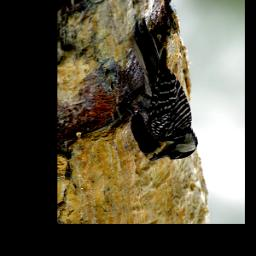Woodpecker: (116, 15, 199, 162)
